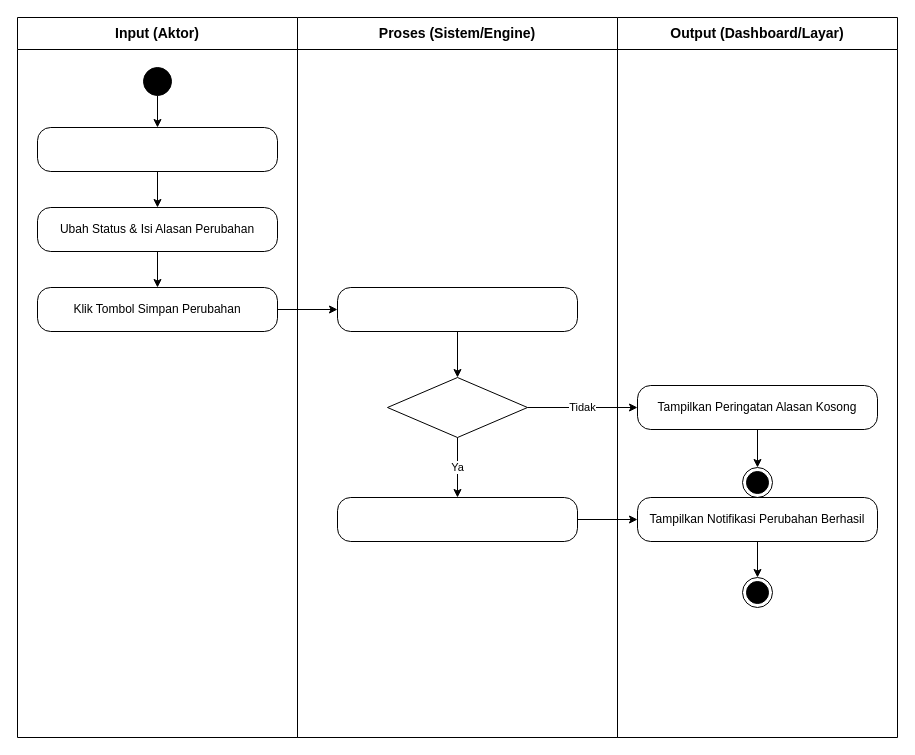
Some shapes in this 915 by 755 pixel diagram are drawn without their labels. The centre of each missing label's shape, as x and y in pixels:
"Alasan Diisi?" goes at (457,407).
"Pilih Mahasiswa pada Detail Presensi" goes at (157,149).
"Update Status & Keterangan di DB" goes at (457,519).
"Validasi Kelengkapan Alasan" goes at (457,309).
